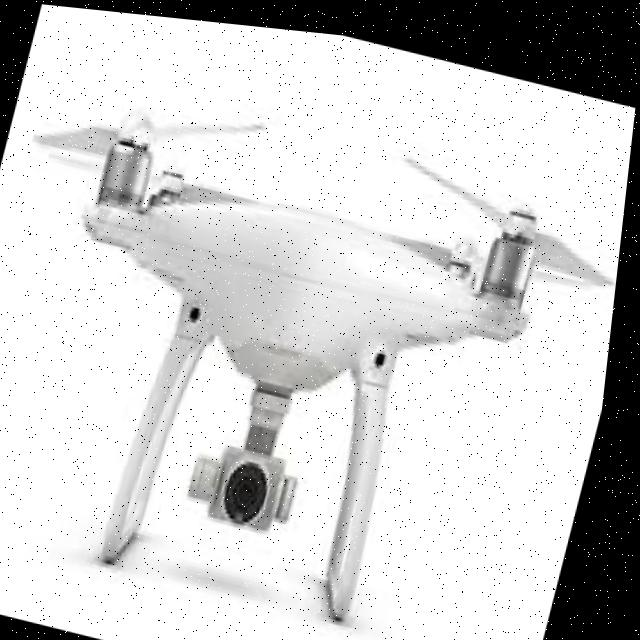drones: (0, 12, 639, 640)
